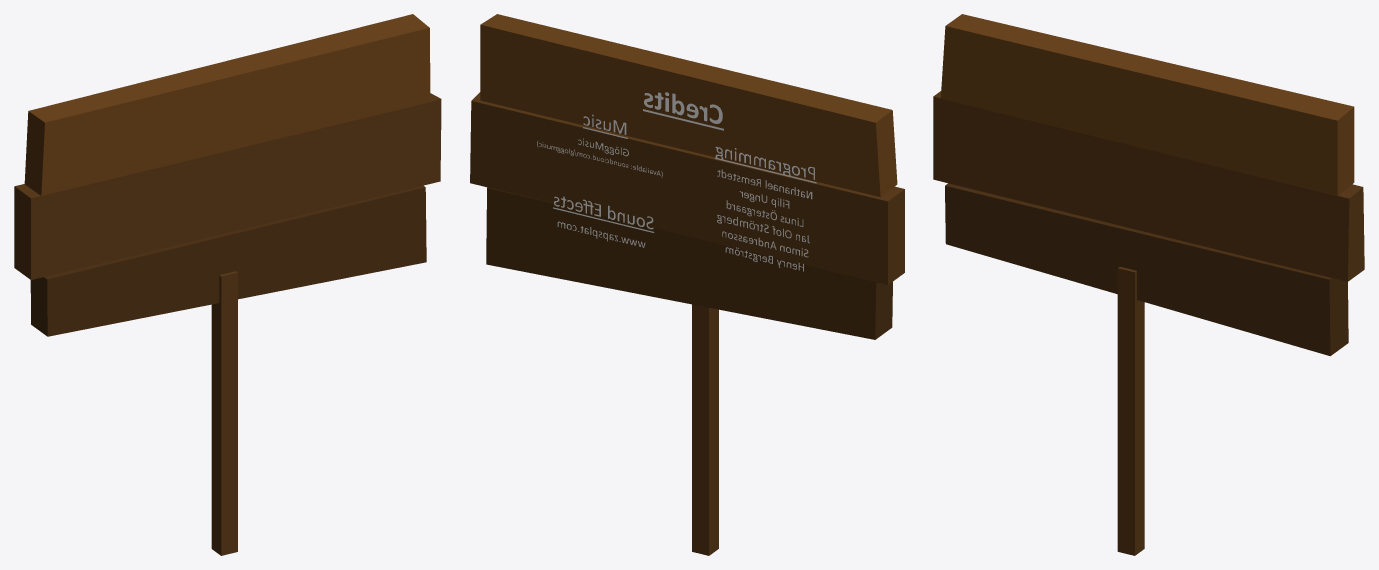
File: CreditsSign1.obj
3 renders of one model, left to right at view 1: azimuth 30°, elevation 25°; view 2: azimuth 150°, elevation 25°; view 3: azimuth 330°, elevation 25°, orthographic. The views are drawn at different scales.
Visible parts, largest first — view 1: Cube.007, Cube.009, Cube.010, Cube.008; view 2: Cube.009, Cube.007, Cube.010, Cube.008, Plane.002; view 3: Cube.007, Cube.009, Cube.010, Cube.008.
Boxes of the visible parts, box(x1,y1,x2,y2) form: Cube.007: box(24, 14, 430, 195); Cube.009: box(14, 93, 441, 279); Cube.010: box(30, 185, 426, 336); Cube.008: box(211, 271, 237, 555); Cube.009: box(470, 92, 904, 284); Cube.007: box(480, 14, 897, 197); Cube.010: box(486, 187, 892, 339); Cube.008: box(692, 304, 718, 555); Plane.002: box(537, 92, 816, 271); Cube.007: box(940, 14, 1354, 196); Cube.009: box(933, 91, 1364, 281); Cube.010: box(945, 183, 1348, 356); Cube.008: box(1117, 266, 1144, 555).
Bounding box in the file's own units: 1.85 × 2.05 × 0.1711.
